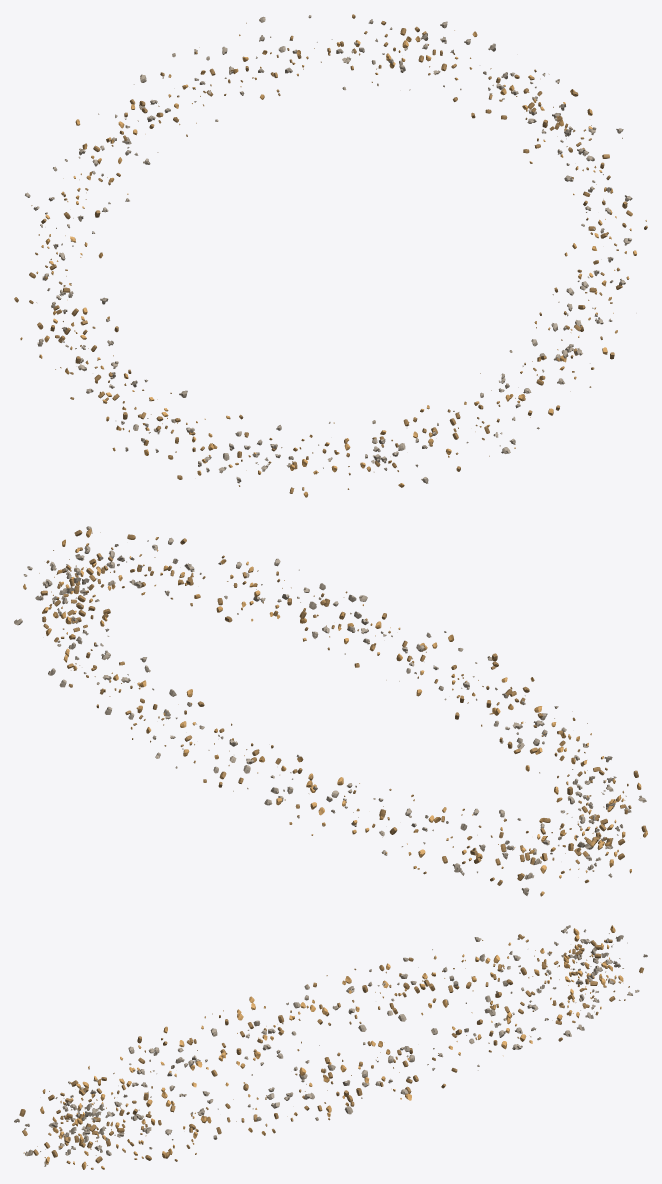
Rendered from spaceRocksanim1.fbx.
The picture shows the model from 3 angles, top to bottom: view 1: azimuth 30°, elevation 25°; view 2: azimuth 150°, elevation 25°; view 3: azimuth 270°, elevation 25°; orthographic projection. The views are drawn at different scales.
Visible parts, largest first — view 1: spacerocks; view 2: spacerocks; view 3: spacerocks.
Part boxes in pixels (bbox=[...]): spacerocks: bbox=[14, 14, 647, 497]; spacerocks: bbox=[14, 526, 647, 896]; spacerocks: bbox=[14, 925, 647, 1169].
Bounding box in the file's own units: 69.06 × 33.41 × 71.53.
1 material, 1 textured.
